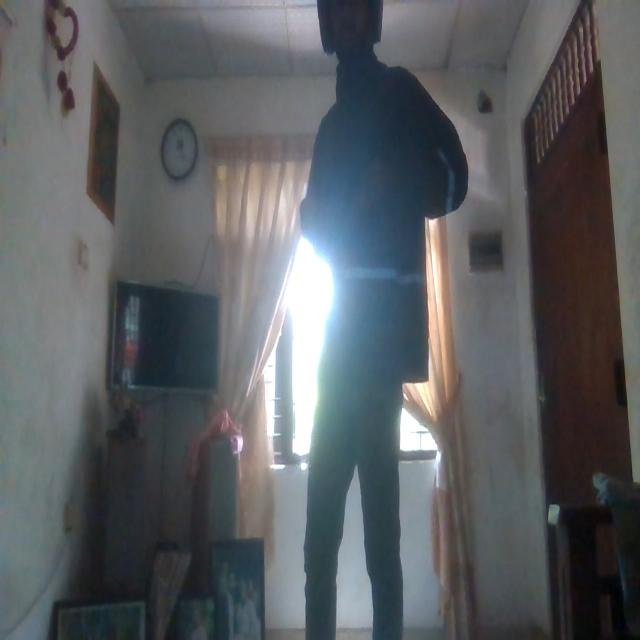Helmet_Wearer: (305, 0, 392, 61)
Jacket_Wearer: (305, 73, 471, 396)
Person: (293, 0, 473, 629)
